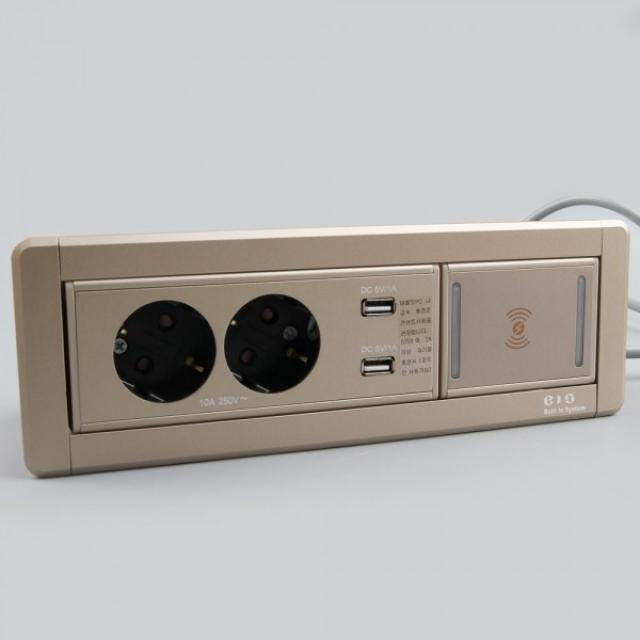typeb: (14, 224, 618, 486)
